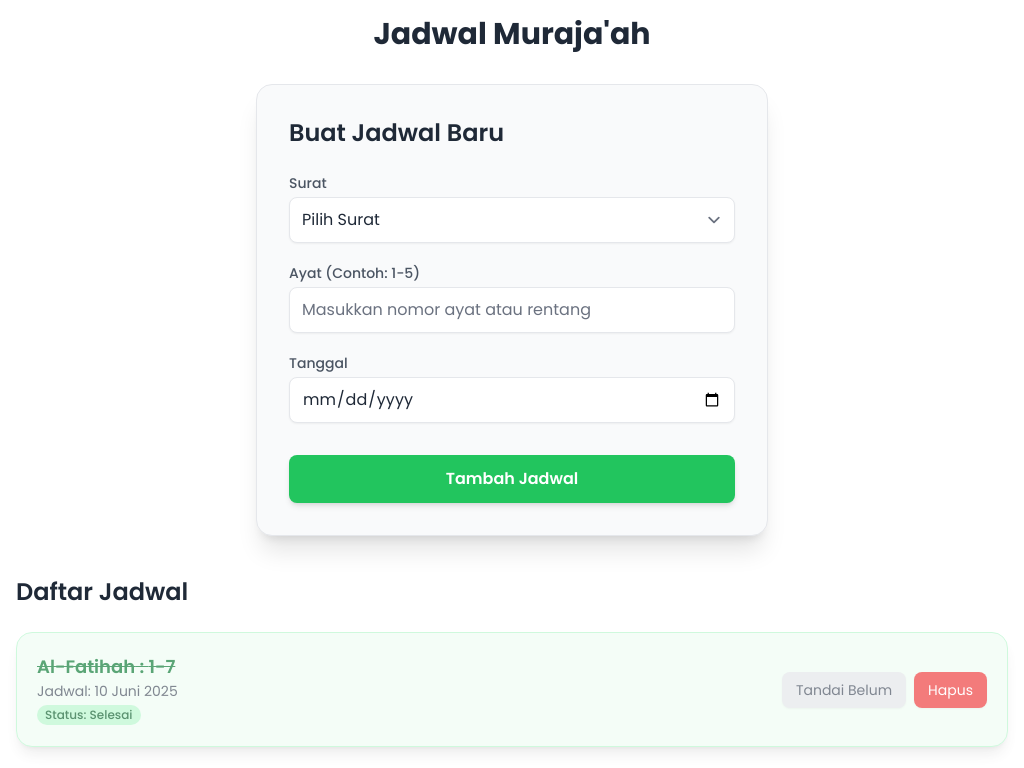
Test: Reminder Page › Authenticated User › Reminder List Item Functionality › "Tandai Belum" button works
expect the text "Al-Fatihah : 1-7" is shown: met, box [37,653,178,681]
expect the text "Status: Selesai" is shown: met, box [37,705,140,725]
What coordinates should you click on to do the following:
click the button "Tandai Belum"
I would click on:
 (844, 690)
Its box is [782,672,906,708].
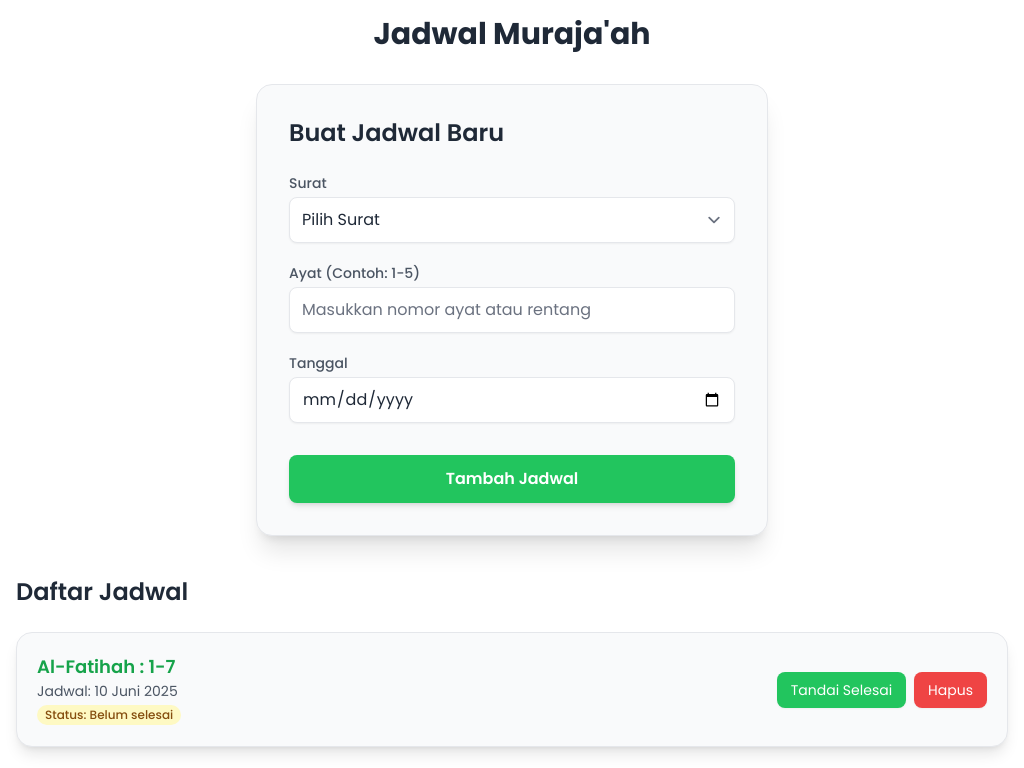
expect the text "Status: Belum selesai" is shown: met, box [37,705,181,725]
expect the button "Tandai Selesai" is shown: met, box [777,672,906,708]
